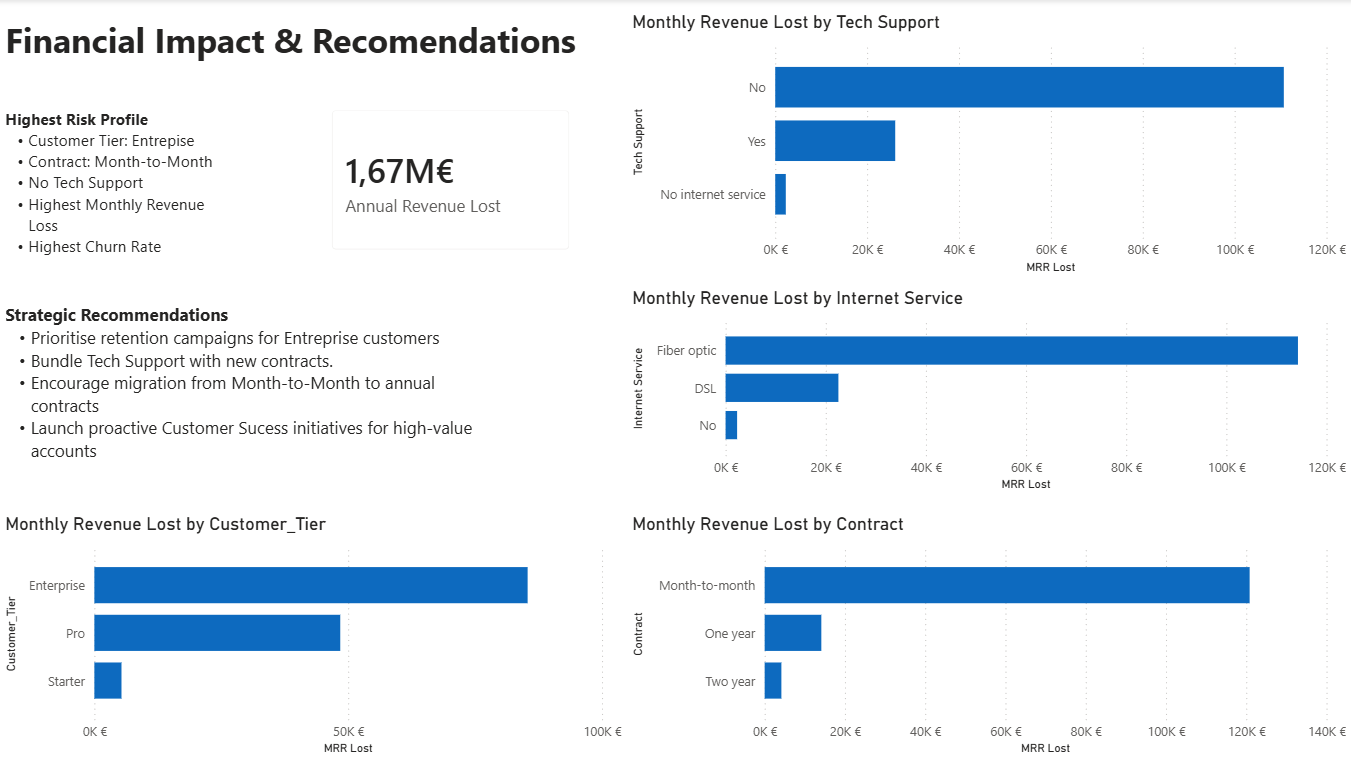

Layout of this report page (visuals, bound fields, positions):
{"tool":"powerbi","page":{"name":"Financial Impact & Recomendations","canvas":[1280,720],"ordinal":2},"visuals":[{"type":"cardVisual","fields":{"Data":["B2B_Churn_Limpo2.Annual Revenue Lost"]},"box":[296.8,88,259.9,166.2],"z":0},{"type":"barChart","title":"Monthly Revenue Lost ByValue Segment","fields":{"Category":["B2B_Churn_Limpo2.Customer_Tier"],"Y":["B2B_Churn_Limpo2.MRR Lost"]},"box":[0,524.3,593.3,181.9],"z":1000},{"type":"barChart","title":"Monthly Revenue Lost By Contract","fields":{"Category":["B2B_Churn_Limpo2.Contract"],"Y":["B2B_Churn_Limpo2.MRR Lost"]},"box":[593.4,461.1,686,258.9],"z":2000},{"type":"textbox","box":[0,98,211.6,170.4],"z":3000},{"type":"textbox","box":[0,282.6,454.4,178.9],"z":4000},{"type":"barChart","title":"Monthly Revenue Lost By Tech Support","fields":{"Category":["B2B_Churn_Limpo2.Tech Support"],"Y":["B2B_Churn_Limpo2.MRR Lost"]},"box":[593.6,11.4,685.9,252.8],"z":5000},{"type":"barChart","title":"Monthly Revenue Lost By Internet Service","fields":{"Category":["B2B_Churn_Limpo2.Internet Service"],"Y":["B2B_Churn_Limpo2.MRR Lost"]},"box":[593.6,264.1,685.9,197.4],"z":6000},{"type":"textbox","box":[0,11.4,572.3,76.7],"z":7000}]}

Visuals, with their boxes in screenshot pixels (x1, y1, x2, y2), scaled from the page's 1280x720 canvas onto the 1351x757 screenshot:
cardVisual - B2B_Churn_Limpo2.Annual Revenue Lost: locate(313, 93, 588, 267)
"Monthly Revenue Lost ByValue Segment" barChart: locate(0, 551, 626, 742)
"Monthly Revenue Lost By Contract" barChart: locate(626, 485, 1350, 756)
textbox: locate(0, 103, 223, 282)
textbox: locate(0, 297, 480, 485)
"Monthly Revenue Lost By Tech Support" barChart: locate(627, 12, 1350, 278)
"Monthly Revenue Lost By Internet Service" barChart: locate(627, 278, 1350, 485)
textbox: locate(0, 12, 604, 93)
